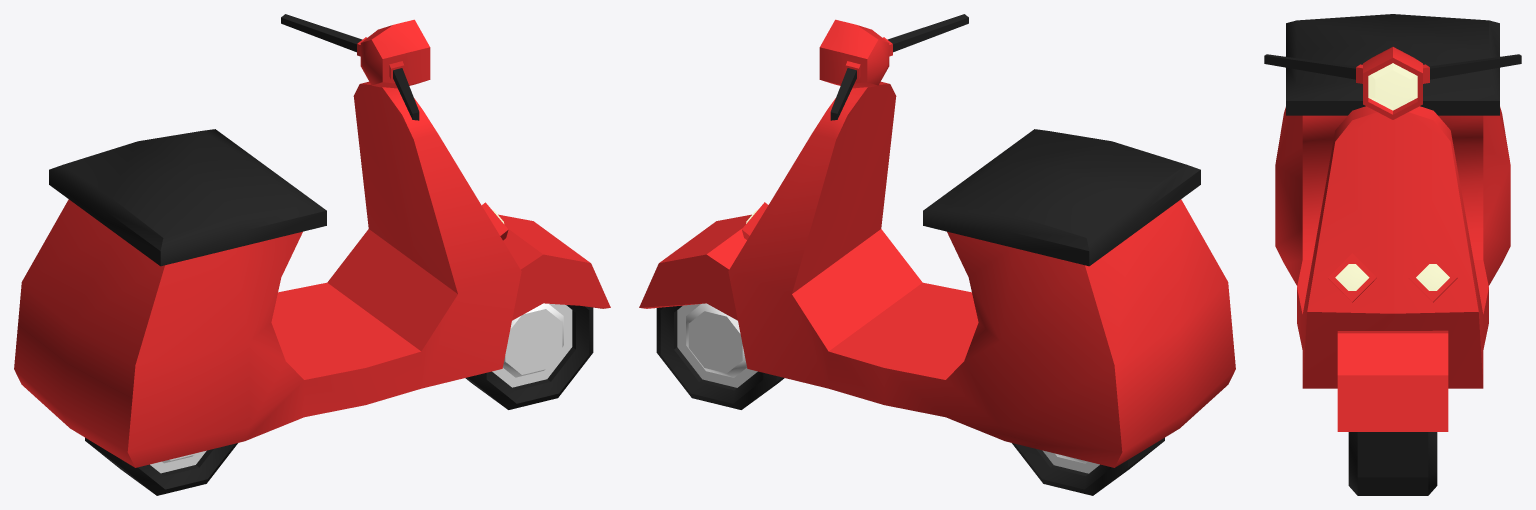
Rendered from scooter.fbx.
3 renders of one model, left to right at view 1: azimuth 30°, elevation 25°; view 2: azimuth 150°, elevation 25°; view 3: azimuth 270°, elevation 25°, orthographic. The views are drawn at different scales.
Parts seen in each view (by area): view 1: Frame, Front_Wheel, Front_Wheel_Cover, Capsule, Back_Wheel; view 2: Frame, Front_Wheel, Front_Wheel_Cover, Capsule, Back_Wheel; view 3: Frame, Front_Wheel_Cover, Front_Wheel, Capsule, Capsule_1, Tube, Tube_2, Polygon_2, Polygon.
Part boxes in pixels (<box>): Frame: <box>14,81,521,467</box>; Front_Wheel: <box>465,303,593,409</box>; Front_Wheel_Cover: <box>498,214,610,320</box>; Capsule: <box>281,14,430,120</box>; Back_Wheel: <box>85,437,237,495</box>; Frame: <box>728,81,1235,467</box>; Front_Wheel: <box>656,303,784,409</box>; Front_Wheel_Cover: <box>639,214,751,320</box>; Capsule: <box>819,14,968,120</box>; Back_Wheel: <box>1012,437,1164,495</box>; Frame: <box>1275,14,1510,388</box>; Front_Wheel_Cover: <box>1337,330,1448,431</box>; Front_Wheel: <box>1348,432,1437,495</box>; Capsule: <box>1264,47,1521,119</box>; Capsule_1: <box>1368,63,1417,110</box>; Tube: <box>1408,253,1457,302</box>; Tube_2: <box>1328,253,1376,302</box>; Polygon_2: <box>1335,264,1369,290</box>; Polygon: <box>1416,264,1449,290</box>.
Size of the model in its own units: 1521 by 1106 by 679.
